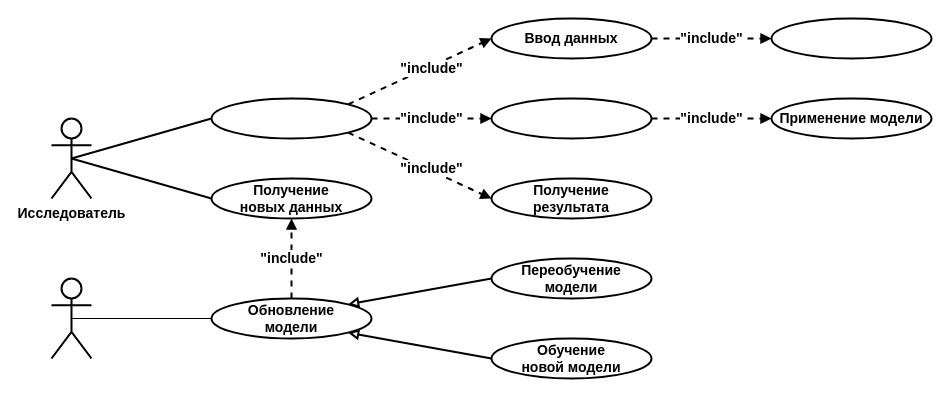
Some shapes in this 949 by 399 pixel diagram are drawn without their labels. The shapes that lost their labels are listed below. From the top down, each one's centre as x and y in pixels, then its label:
At (x=851, y=38): "Валидация данных".
At (x=291, y=118): "Прогноз свойств".
At (x=571, y=118): "Проведение прогноза".
At (x=71, y=318): "Программист".
